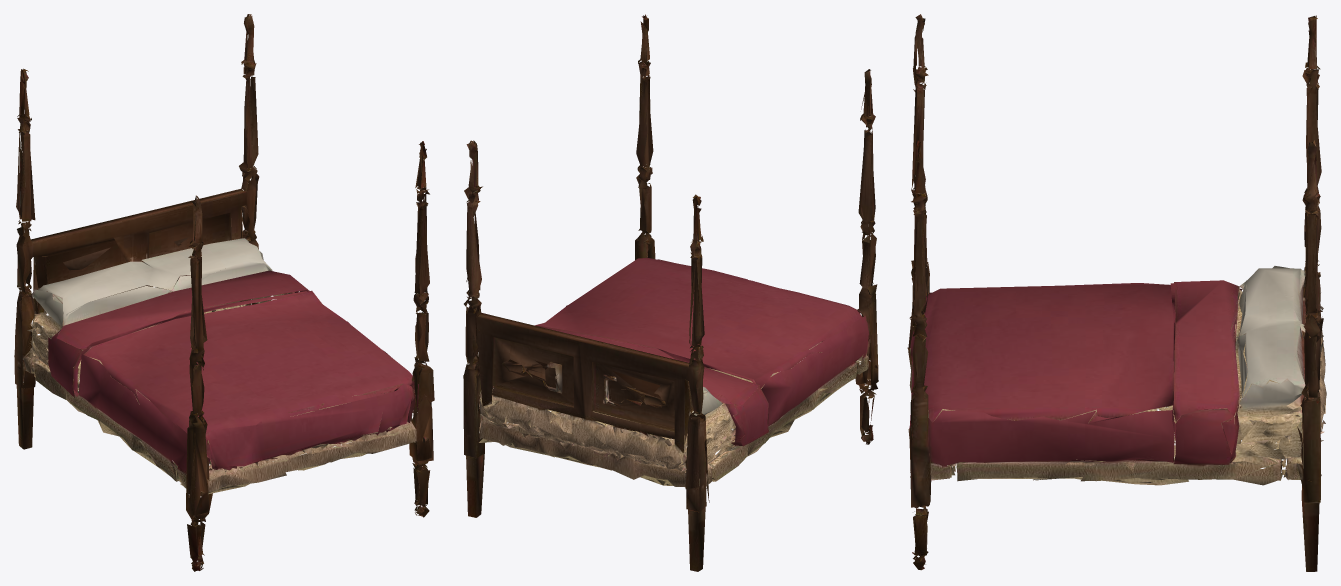
Rendered from bed-fourpost-interior-lod.glb.
3 renders of one model, left to right at view 1: azimuth 30°, elevation 25°; view 2: azimuth 150°, elevation 25°; view 3: azimuth 270°, elevation 25°, orthographic. The views are drawn at different scales.
Visible parts, largest first — view 1: Mesh_0; view 2: Mesh_0; view 3: Mesh_0.
Part boxes in pixels (x1,y1,x2,y2): Mesh_0: [14, 14, 434, 571]; Mesh_0: [463, 14, 878, 571]; Mesh_0: [907, 14, 1326, 571].
Bounding box in the file's own units: 1.32 × 1.9 × 1.68.
Materials: 1 (1 with a texture image).
